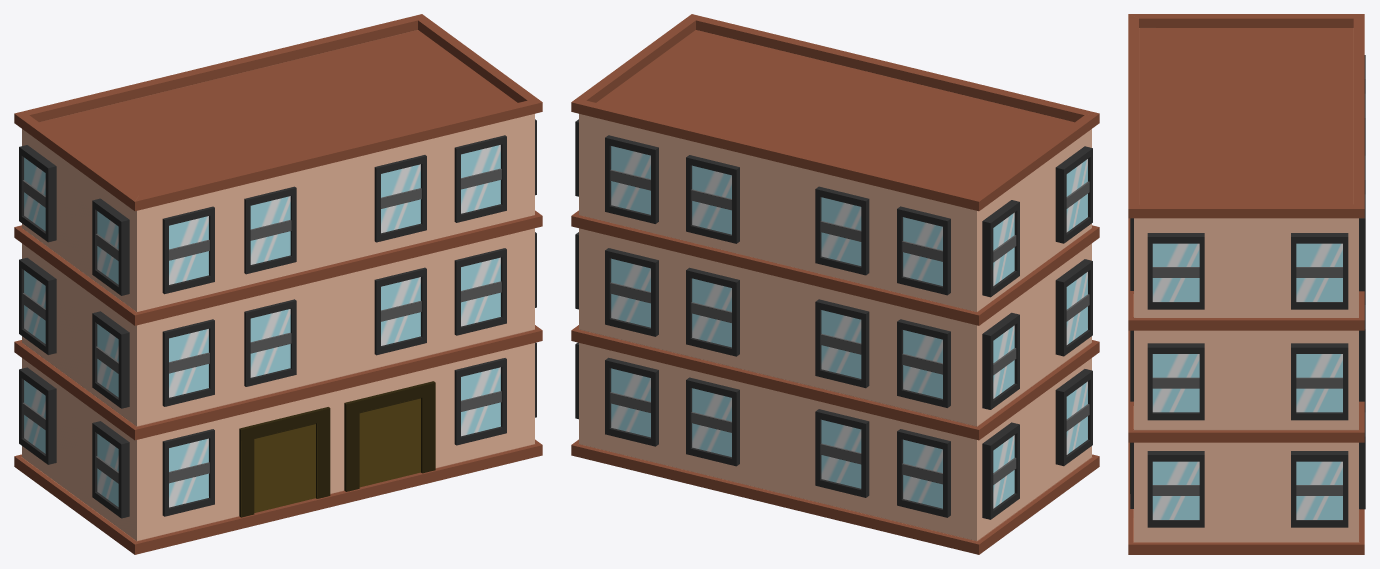
Rendered from 6 Building.fbx.
3 views of the same model, side by side, from view 1: azimuth 30°, elevation 25°; view 2: azimuth 150°, elevation 25°; view 3: azimuth 270°, elevation 25° (orthographic). The views are drawn at different scales.
Parts seen in each view (by area): view 1: WideMed1, Normal Door.004, Normal Door.003, Window1.037, Window1.018, Window1.028, Cube.054, Cube.060, Window1.029, Window1.036, Cube.069, Window1.041 (+7 smaller); view 2: WideMed1, Cube.064, Cube.063, Cube.068, Cube.061, Window1.040, Window1.026, Window1.027, Window1.032, Window1.033, Cube.067, Window1.039 (+7 smaller); view 3: WideMed1, Window1.023, Window1.038, Cube.065, Window1.031, Cube.066, Window1.035, Window1.032, Window1.026, Window1.039.
Part boxes in pixels (x1,y1,x2,y2): WideMed1: [14, 14, 542, 554]; Normal Door.004: [344, 381, 435, 491]; Normal Door.003: [239, 407, 330, 517]; Window1.037: [244, 186, 296, 274]; Window1.018: [374, 267, 426, 355]; Window1.028: [162, 206, 214, 294]; Cube.054: [454, 248, 506, 335]; Cube.060: [454, 135, 506, 222]; Window1.029: [374, 155, 426, 242]; Window1.036: [244, 299, 296, 386]; Cube.069: [454, 358, 506, 445]; Window1.041: [162, 429, 214, 516]; WideMed1: [571, 14, 1099, 554]; Cube.064: [815, 186, 869, 275]; Cube.063: [815, 299, 869, 388]; Cube.068: [815, 409, 869, 497]; Cube.061: [897, 206, 950, 295]; Window1.040: [686, 377, 739, 466]; Window1.026: [605, 248, 658, 336]; Window1.027: [686, 267, 739, 356]; Window1.032: [605, 135, 658, 223]; Window1.033: [686, 155, 739, 243]; Cube.067: [897, 429, 950, 517]; Window1.039: [605, 357, 658, 446]; WideMed1: [1128, 14, 1364, 554]; Window1.023: [1147, 343, 1204, 420]; Window1.038: [1291, 343, 1348, 420]; Cube.065: [1291, 233, 1348, 309]; Window1.031: [1147, 233, 1204, 309]; Cube.066: [1291, 451, 1348, 527]; Window1.035: [1147, 451, 1204, 527]; Window1.032: [1359, 194, 1365, 291]; Window1.026: [1359, 305, 1365, 401]; Window1.039: [1359, 412, 1365, 509].
Bounding box in the file's own units: 835 × 678 × 422.
